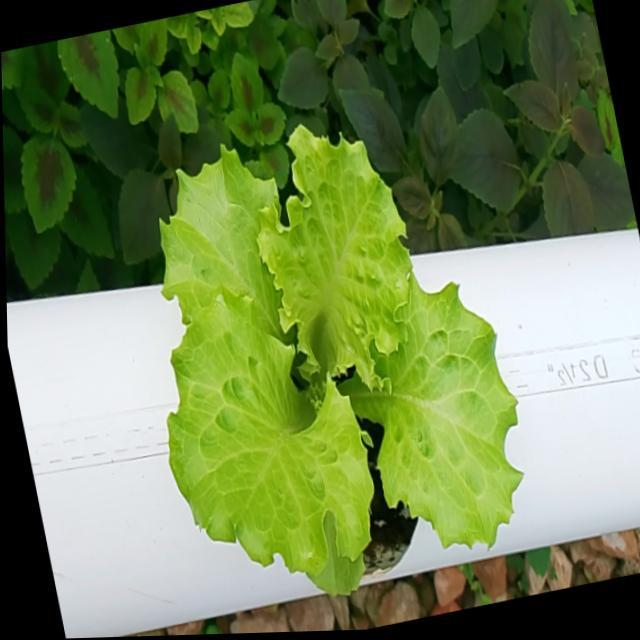Baby: (158, 114, 520, 583)
